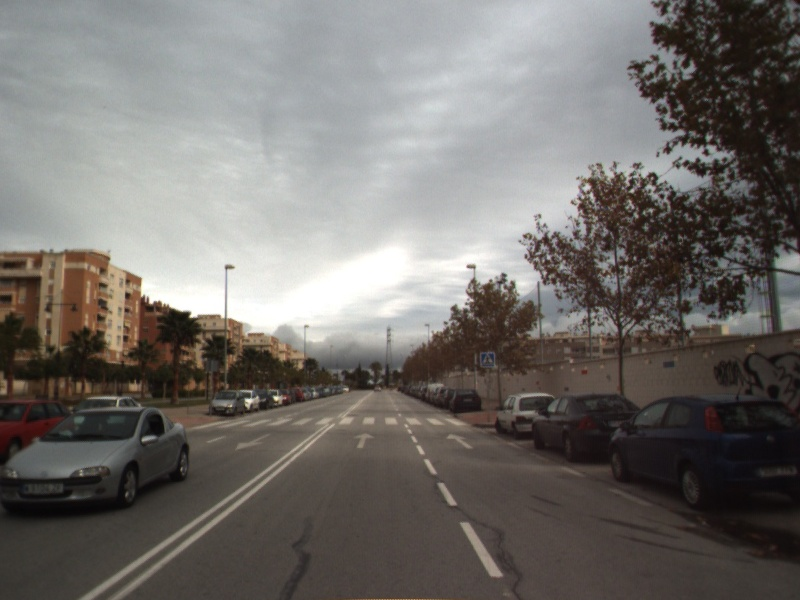STRAIGHT: (445, 431, 475, 450), (352, 431, 377, 450)
